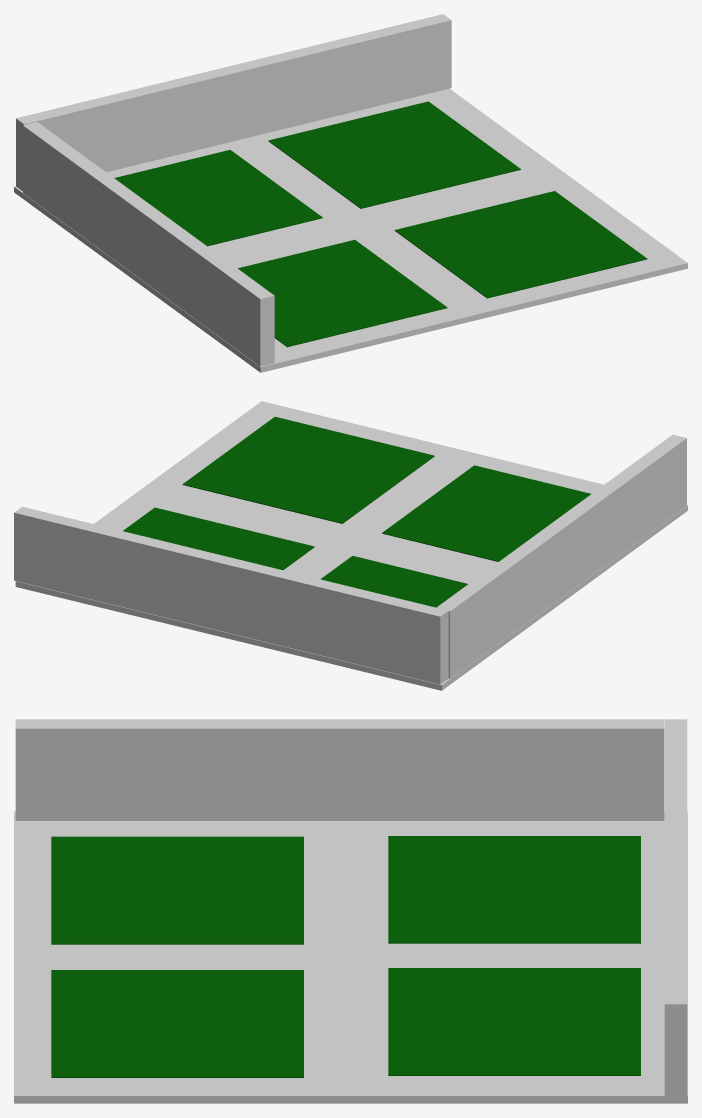
Rendered from floor(2x2).glb.
The picture shows the model from 3 angles, top to bottom: view 1: azimuth 30°, elevation 25°; view 2: azimuth 150°, elevation 25°; view 3: azimuth 270°, elevation 25°; orthographic projection. The views are drawn at different scales.
Parts seen in each view (by area): view 1: Cube, Cube.007, Cube.008, Cube.004, Cube.003, Cube.006, Cube.005; view 2: Cube.007, Cube, Cube.008, Cube.003, Cube.006, Cube.004, Cube.005; view 3: Cube, Cube.008, Cube.006, Cube.003, Cube.004, Cube.005, Cube.007.
Part boxes in pixels (box(x1,y1,x2,y2)): Cube: box(14, 88, 687, 372); Cube.007: box(16, 14, 451, 190); Cube.008: box(23, 122, 274, 366); Cube.004: box(268, 101, 520, 208); Cube.003: box(394, 191, 647, 298); Cube.006: box(238, 239, 447, 347); Cube.005: box(114, 150, 322, 246); Cube.007: box(14, 506, 448, 684); Cube: box(15, 401, 687, 690); Cube.008: box(437, 434, 686, 678); Cube.003: box(182, 416, 434, 523); Cube.006: box(382, 465, 590, 561); Cube.004: box(123, 507, 314, 569); Cube.005: box(320, 555, 467, 607); Cube: box(14, 811, 687, 1103); Cube.008: box(15, 719, 664, 820); Cube.006: box(51, 836, 303, 944); Cube.003: box(51, 970, 303, 1077); Cube.004: box(388, 968, 640, 1075); Cube.005: box(388, 836, 640, 943); Cube.007: box(664, 719, 687, 1096).
Bounding box in the file's own units: 8.03 × 1.32 × 8.
